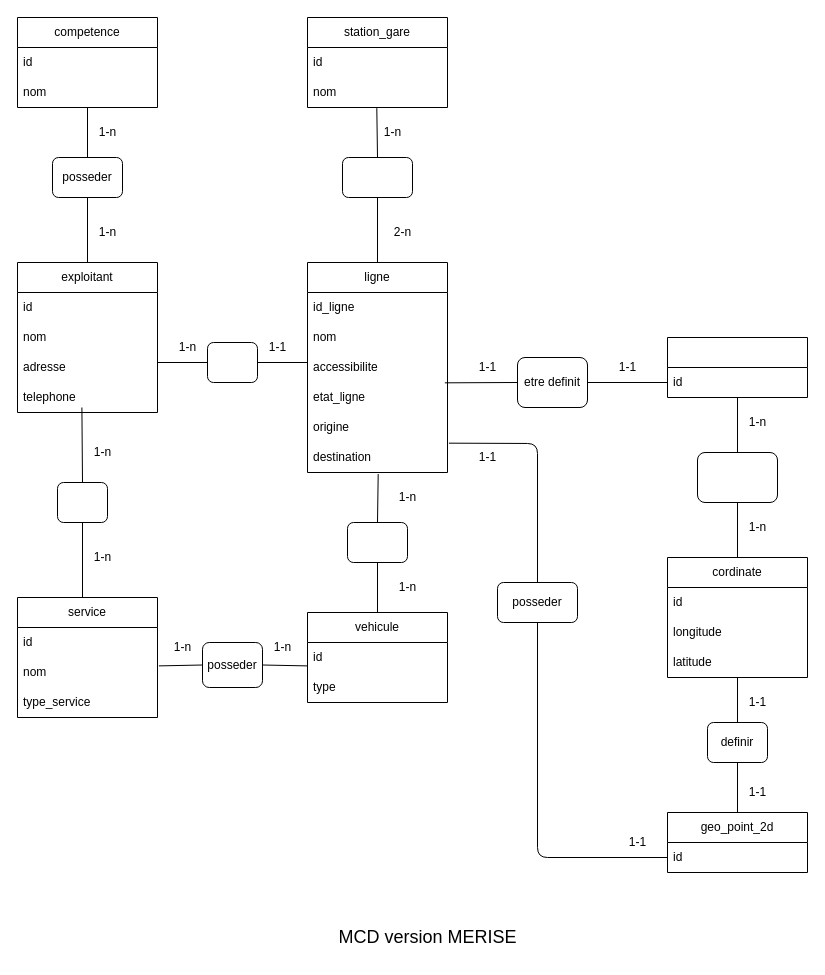
Some shapes in this 825 by 975 pixel diagram are drawn without their labels. Each missing label, with the box of its shape:
circuler: (346, 522, 408, 562)
composer: (696, 452, 778, 502)
desservir: (342, 156, 412, 198)
diriger: (206, 342, 258, 382)
geo_shape: (666, 336, 808, 398)
offrir: (56, 482, 108, 522)
